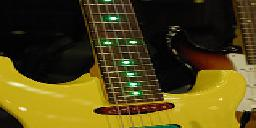LED: (108, 13, 121, 23), (121, 70, 137, 77), (100, 39, 113, 47), (128, 40, 140, 46), (121, 59, 133, 65)
